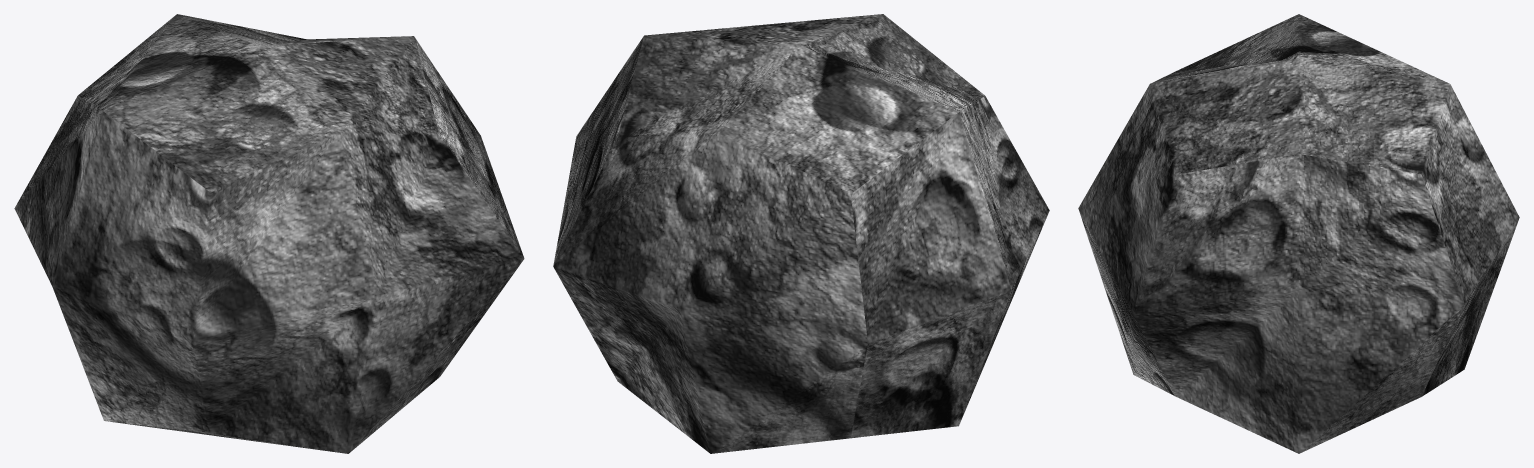
Rendered from Asteroid1.fbx.
3 renders of one model, left to right at view 1: azimuth 30°, elevation 25°; view 2: azimuth 150°, elevation 25°; view 3: azimuth 270°, elevation 25°, orthographic. The views are drawn at different scales.
Parts seen in each view (by area): view 1: Asteroid1; view 2: Asteroid1; view 3: Asteroid1.
Part boxes in pixels (left/top/right/bottom): Asteroid1: left=14, top=14, right=524, bottom=453; Asteroid1: left=553, top=14, right=1049, bottom=453; Asteroid1: left=1078, top=14, right=1519, bottom=453.
Size of the model in its own units: 8.73 by 7.62 by 8.42.
1 material, 1 textured.
